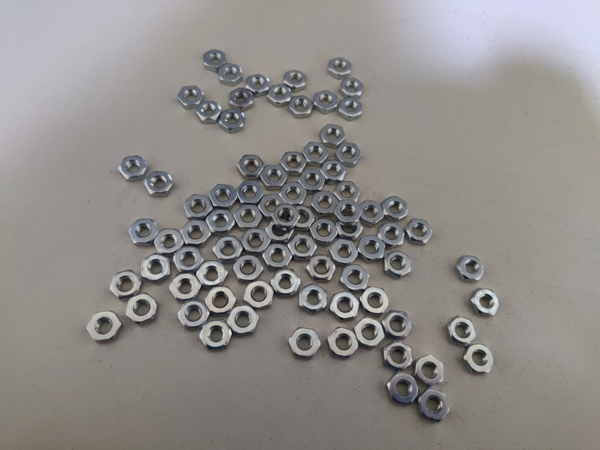nut: (226, 305, 260, 339), (87, 312, 122, 343), (125, 295, 159, 326), (388, 371, 418, 406), (168, 274, 203, 303), (419, 390, 448, 425), (413, 355, 444, 387), (139, 254, 172, 284), (464, 343, 494, 375), (289, 328, 320, 358), (328, 328, 358, 359), (199, 321, 231, 350), (242, 281, 274, 310), (174, 246, 205, 275), (382, 342, 413, 371), (211, 235, 244, 262), (382, 311, 411, 341), (405, 218, 434, 248), (110, 271, 141, 299), (206, 287, 237, 315), (130, 219, 159, 248), (234, 255, 263, 284), (331, 292, 359, 322), (178, 302, 209, 329), (356, 317, 383, 348), (472, 289, 499, 320), (116, 156, 148, 182), (382, 252, 414, 278), (289, 233, 317, 262), (359, 234, 388, 262), (362, 287, 389, 317), (341, 265, 369, 293), (300, 284, 327, 313), (331, 236, 358, 265), (144, 171, 174, 197), (263, 243, 293, 269), (458, 254, 484, 284), (183, 195, 212, 221), (241, 228, 270, 254), (272, 271, 301, 297), (259, 164, 288, 190), (450, 316, 477, 343), (310, 218, 337, 245), (235, 180, 263, 206), (381, 194, 409, 220), (330, 240, 359, 265), (198, 262, 228, 286), (334, 215, 364, 239), (183, 221, 211, 246), (334, 199, 362, 224), (379, 222, 407, 247), (205, 211, 236, 233), (335, 141, 361, 167), (220, 108, 246, 134), (157, 230, 184, 255), (308, 257, 335, 282), (360, 199, 385, 226), (235, 205, 261, 230), (211, 185, 237, 210), (299, 168, 324, 194), (321, 160, 348, 184), (176, 86, 203, 110), (315, 90, 339, 117), (311, 191, 337, 215), (327, 56, 353, 80), (237, 155, 264, 178), (318, 124, 345, 147), (260, 195, 285, 219), (339, 97, 364, 121), (267, 84, 293, 107), (196, 101, 220, 125), (340, 75, 364, 99), (283, 152, 306, 177), (275, 205, 300, 228), (267, 220, 292, 243), (281, 184, 307, 206), (302, 143, 328, 164), (335, 182, 361, 203), (221, 64, 244, 87), (292, 206, 314, 230), (283, 69, 307, 91), (204, 49, 226, 71), (248, 74, 270, 96), (292, 95, 312, 119)
